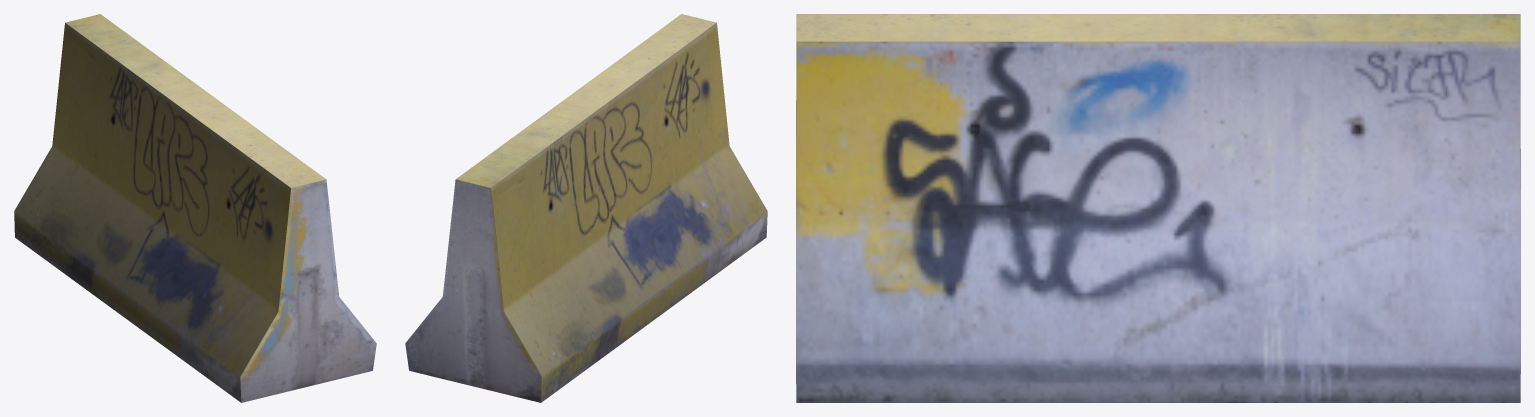
Rendered from barrier2.FBX.
3 views of the same model, side by side, from view 1: azimuth 30°, elevation 25°; view 2: azimuth 150°, elevation 25°; view 3: azimuth 270°, elevation 25° (orthographic). The views are drawn at different scales.
Parts seen in each view (by area): view 1: prop_barrier2_LOD0; view 2: prop_barrier2_LOD0; view 3: prop_barrier2_LOD0.
Part boxes in pixels (x1=…): prop_barrier2_LOD0: x1=14, y1=14, x2=376, y2=402; prop_barrier2_LOD0: x1=405, y1=14, x2=767, y2=402; prop_barrier2_LOD0: x1=796, y1=14, x2=1520, y2=402.
Size of what is drawn, in the model's own units: 0.6645 by 0.9435 by 1.91.
